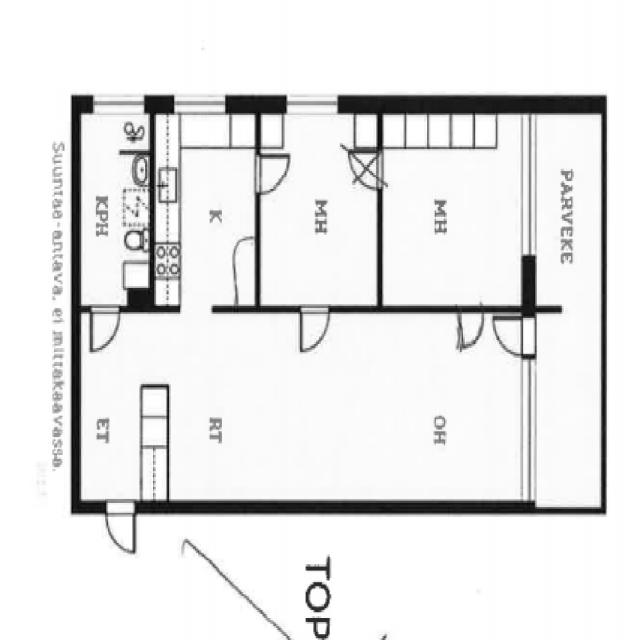door: (102, 499, 138, 558), (252, 149, 293, 197), (297, 302, 332, 357), (345, 145, 384, 194), (490, 310, 528, 358), (453, 306, 486, 354), (90, 304, 121, 352)
window: (513, 106, 546, 268), (518, 347, 540, 510), (279, 87, 344, 117), (86, 90, 150, 115), (167, 90, 231, 115)
zone: (77, 314, 538, 512), (378, 107, 531, 310), (258, 108, 382, 310), (152, 108, 260, 308), (81, 103, 152, 309)
